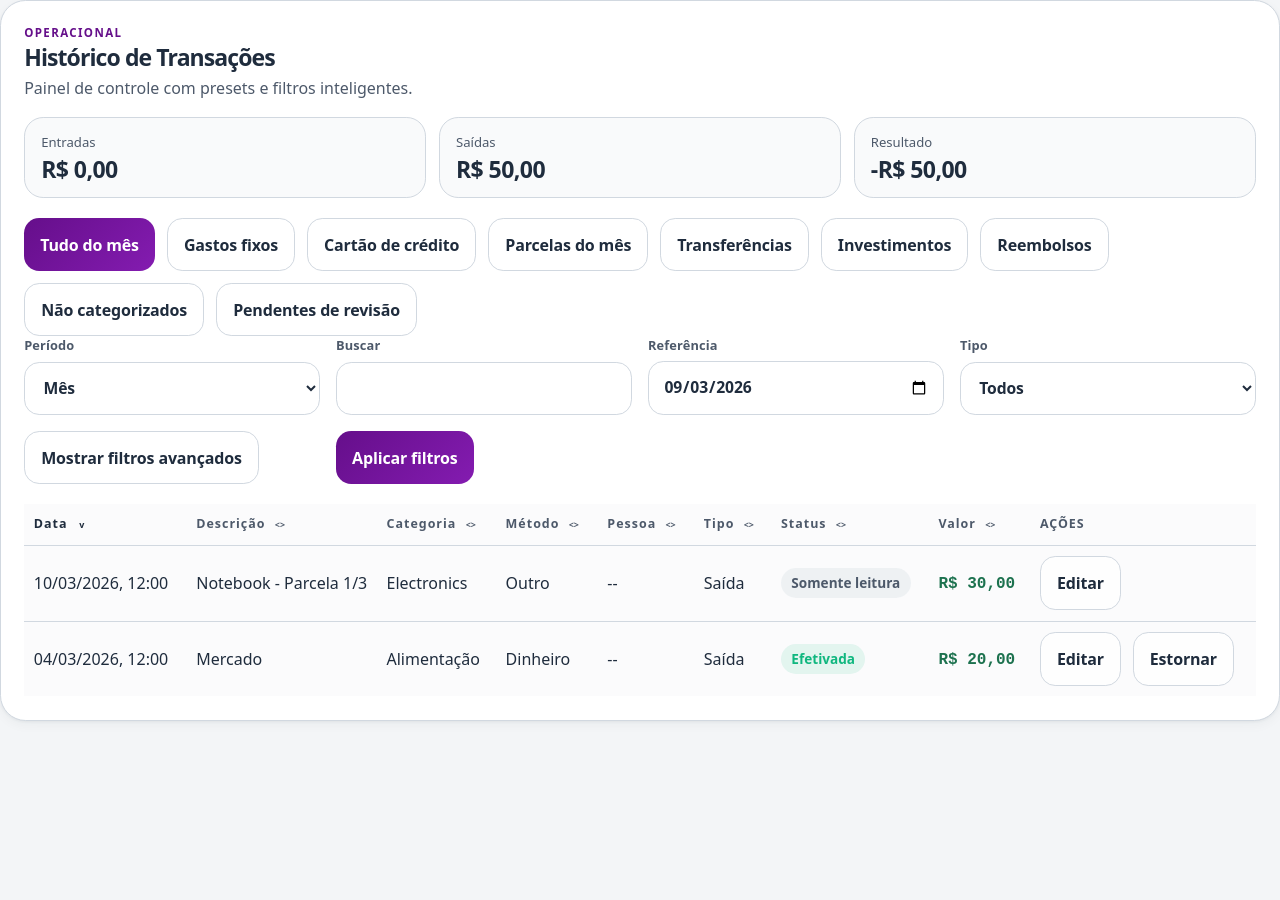
Test: TransactionsView copy › filters parcelled card expenses through the installment preset
Click the button "Parcelas do mês": (568, 245) [488, 218, 648, 271]
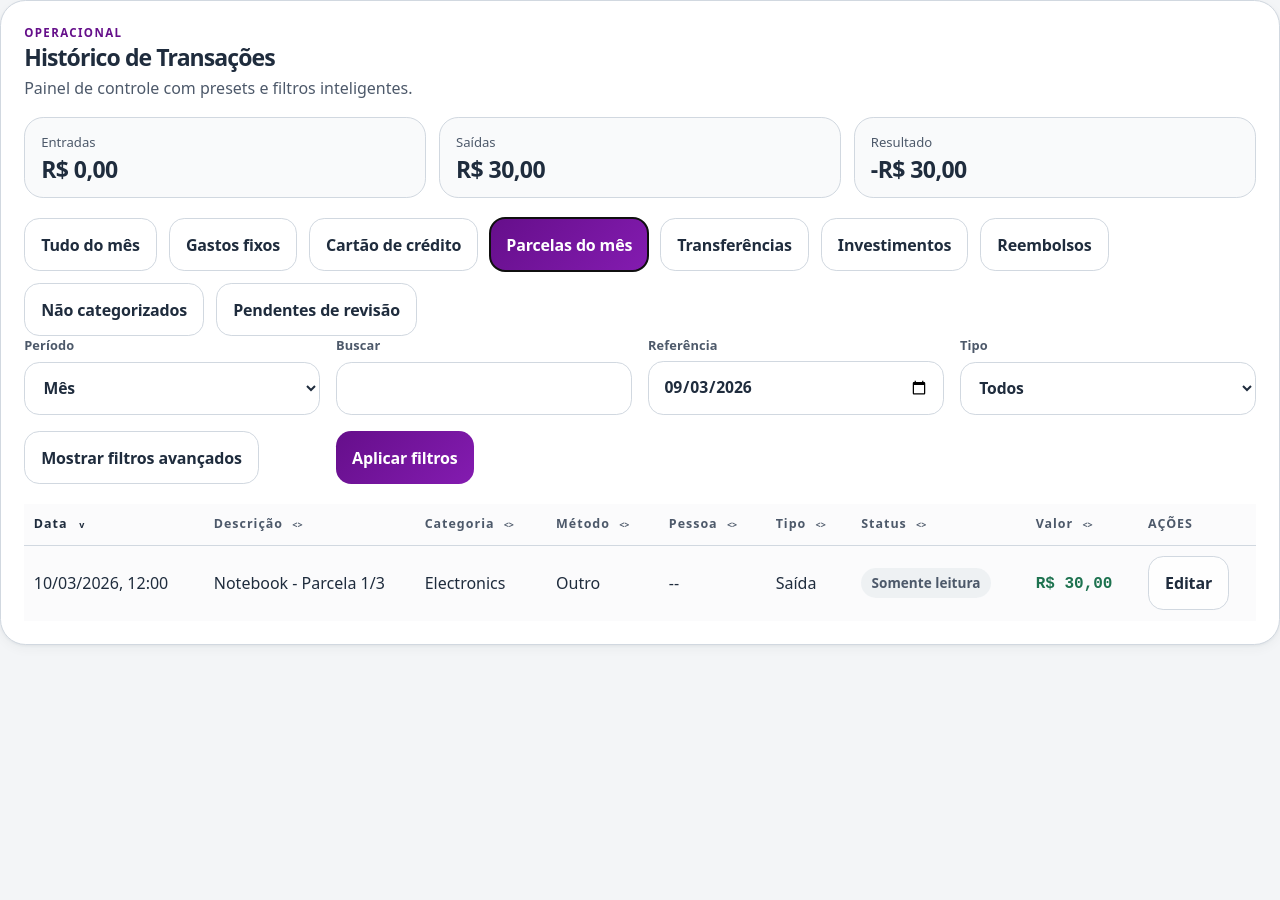
Check: the text "Notebook - Parcela 1/3" is shown, box [204, 546, 415, 620]
Check: the text "Mercado" is gone
